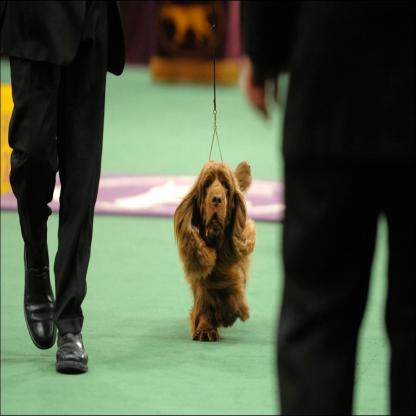Sussex_spaniel: (173, 159, 250, 344)
